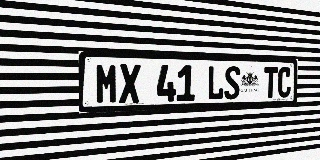1: (176, 65, 195, 101)
4: (157, 65, 176, 102)
C: (277, 67, 291, 98)
L: (207, 66, 224, 100)
M: (95, 63, 118, 104)
S: (224, 66, 240, 100)
T: (263, 67, 278, 98)
X: (119, 64, 141, 103)
